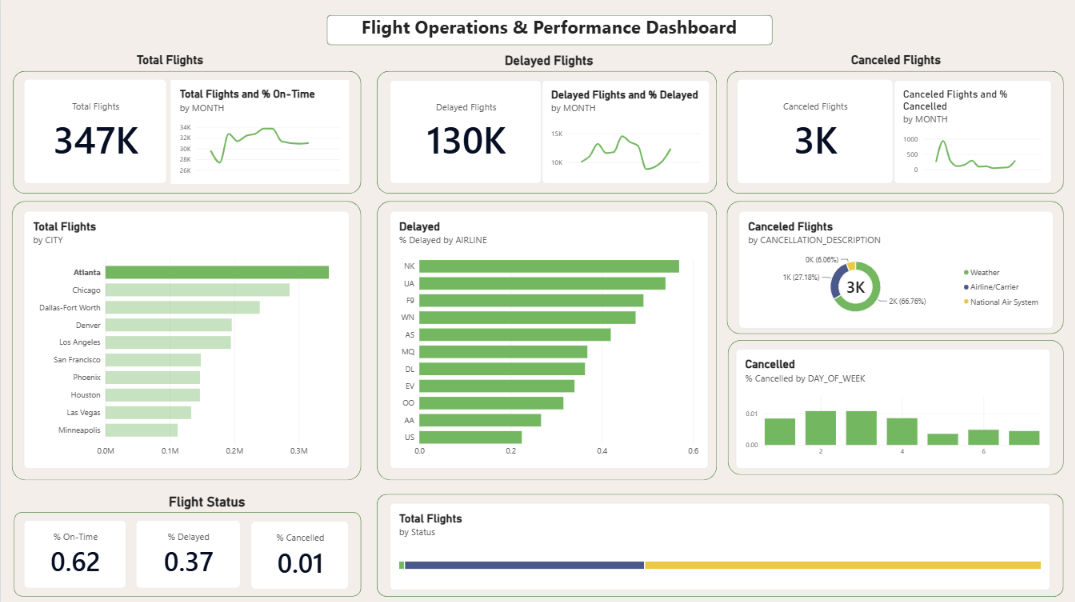

This screenshot's page, from the dashboard's own definition file:
{"tool":"powerbi","page":{"name":"Page 1","canvas":[1920,1080],"ordinal":0},"visuals":[{"type":"cardVisual","fields":{"Data":["flights.Total Flights"]},"box":[80,110,236,172],"z":0},{"type":"lineChart","fields":{"Category":["flights.MONTH"],"Y":["flights.Total Flights"]},"box":[315,110,264,172],"z":1000},{"type":"cardVisual","fields":{"Data":["flights.Delayed Flights"]},"box":[725,105,236,172],"z":2000},{"type":"lineChart","fields":{"Category":["flights.MONTH"],"Y":["flights.Delayed Flights"]},"box":[960,107.5,236,172],"z":3000},{"type":"cardVisual","fields":{"Data":["flights.Canceled Flights"]},"box":[1378.4,107.8,236,172],"z":4000},{"type":"lineChart","fields":{"Category":["flights.MONTH"],"Y":["flights.Canceled Flights"]},"box":[1613.7,109.8,236,172],"z":5000},{"type":"cardVisual","title":"On-Time ","fields":{"Data":["flights.% On-Time"]},"box":[56,816,170,188],"z":6000},{"type":"cardVisual","title":"Delayed","fields":{"Data":["flights.% Delayed"]},"box":[248,816,200,188],"z":7000},{"type":"cardVisual","title":"Cancelled","fields":{"Data":["flights.% Cancelled"]},"box":[480,816,200,188],"z":8000},{"type":"clusteredBarChart","fields":{"Category":["airports.CITY"],"Y":["flights.Total Flights"]},"box":[79.1,311,568.6,482.4],"z":9000},{"type":"clusteredBarChart","fields":{"Category":["flights.AIRLINE"],"Y":["flights.% Delayed"]},"box":[676.5,298,568.6,482.4],"z":10000},{"type":"donutChart","fields":{"Category":["cancellation_codes.CANCELLATION_DESCRIPTION"],"Y":["flights.Canceled Flights"]},"box":[1313.7,298,584.3,196.1],"z":11000},{"type":"clusteredColumnChart","fields":{"Category":["flights.DAY_OF_WEEK"],"Y":["flights.% Cancelled"]},"box":[1321.6,539.2,568.6,241.2],"z":12000},{"type":"hundredPercentStackedBarChart","fields":{"Series":["flights.Status"],"Y":["flights.Total Flights"]},"box":[760,816,1116,188],"z":13000}]}

Visuals, with their boxes in screenshot pixels (x1, y1, x2, y2), scaled from the page's 1920x1080 canvas onto the 1075x602 screenshot:
cardVisual - flights.Total Flights: 45 61 177 157
lineChart - flights.MONTH x flights.Total Flights: 176 61 324 157
cardVisual - flights.Delayed Flights: 406 59 538 154
lineChart - flights.MONTH x flights.Delayed Flights: 538 60 670 156
cardVisual - flights.Canceled Flights: 772 60 904 156
lineChart - flights.MONTH x flights.Canceled Flights: 904 61 1036 157
"On-Time " cardVisual: 31 455 127 560
"Delayed" cardVisual: 139 455 251 560
"Cancelled" cardVisual: 269 455 381 560
clusteredBarChart - airports.CITY x flights.Total Flights: 44 173 363 442
clusteredBarChart - flights.AIRLINE x flights.% Delayed: 379 166 697 435
donutChart - cancellation_codes.CANCELLATION_DESCRIPTION x flights.Canceled Flights: 736 166 1063 275
clusteredColumnChart - flights.DAY_OF_WEEK x flights.% Cancelled: 740 301 1058 435
hundredPercentStackedBarChart - flights.Status x flights.Total Flights: 426 455 1050 560
